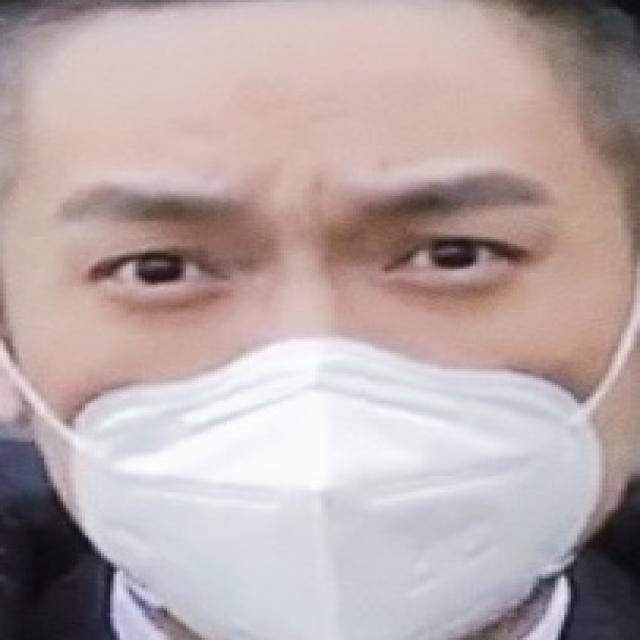Mask: (14, 334, 613, 621)
